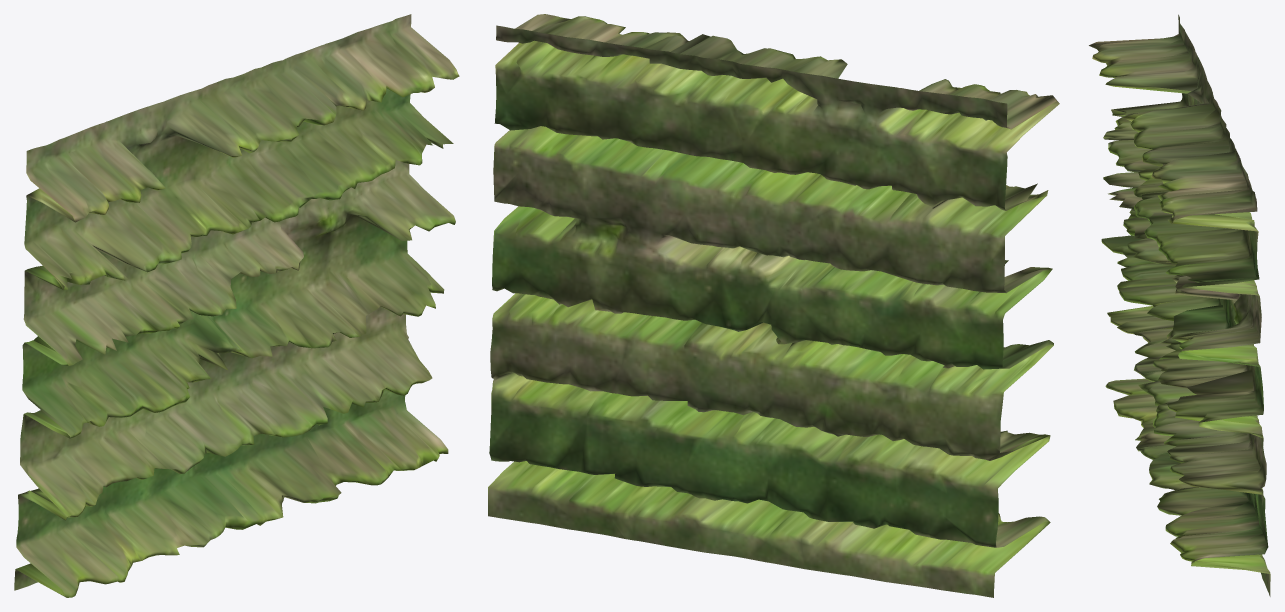
Rendered from map_190_30.obj.
3 views of the same model, side by side, from view 1: azimuth 30°, elevation 25°; view 2: azimuth 150°, elevation 25°; view 3: azimuth 270°, elevation 25° (orthographic). The views are drawn at different scales.
Bounding box in the file's own units: 10 × 10 × 4.14.
Materials: 1 (1 with a texture image).
